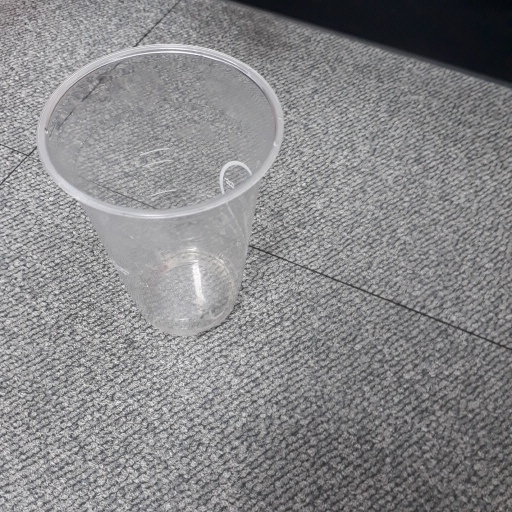Plastic_2: (34, 42, 288, 336)
